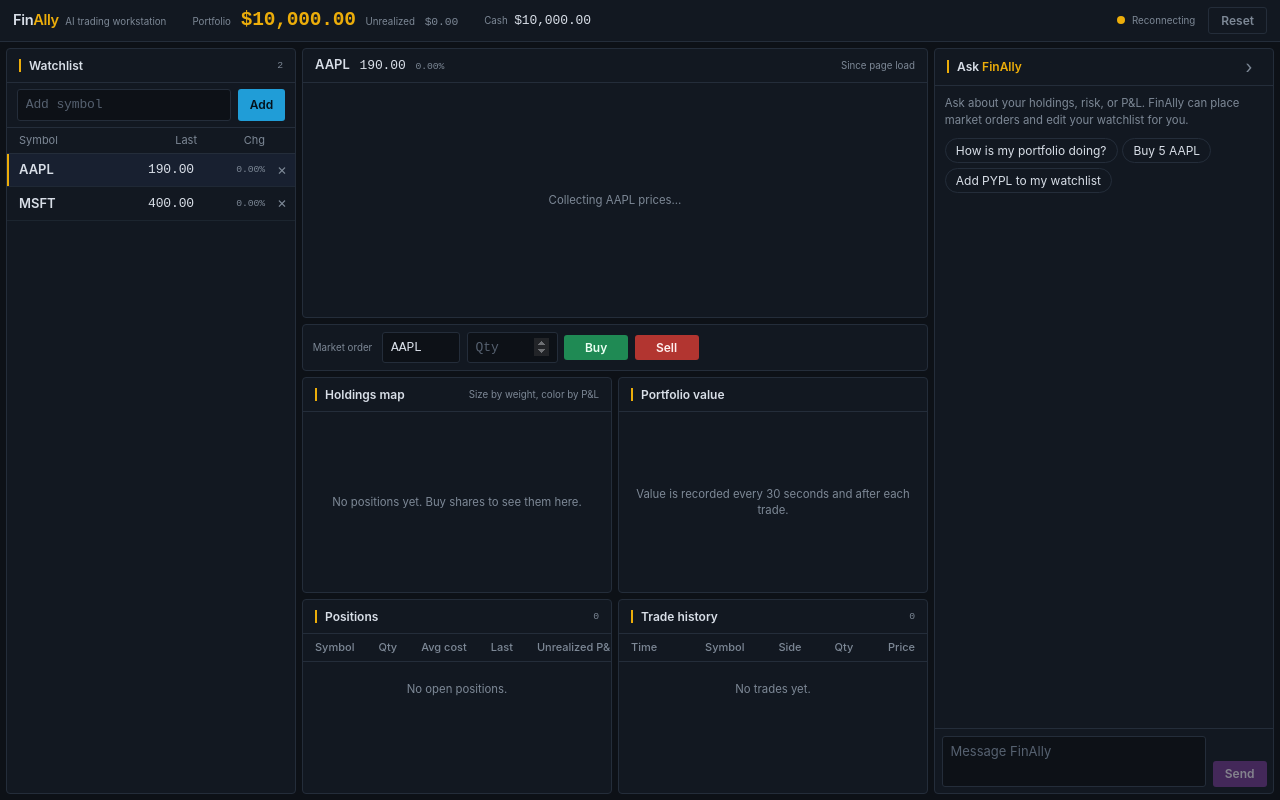
Test: Terminal › adds and removes watchlist tickers, surfacing unknown tickers
The image size is (1280, 800).
Check: the list item with test id "watchlist-row-MSFT" is shown, box x1=7 y1=187 x2=295 y2=221
Type "pypl" into the field with test id "watchlist-add-input". click: (124, 105)
box: x1=17 y1=89 x2=231 y2=121
Then press Enter
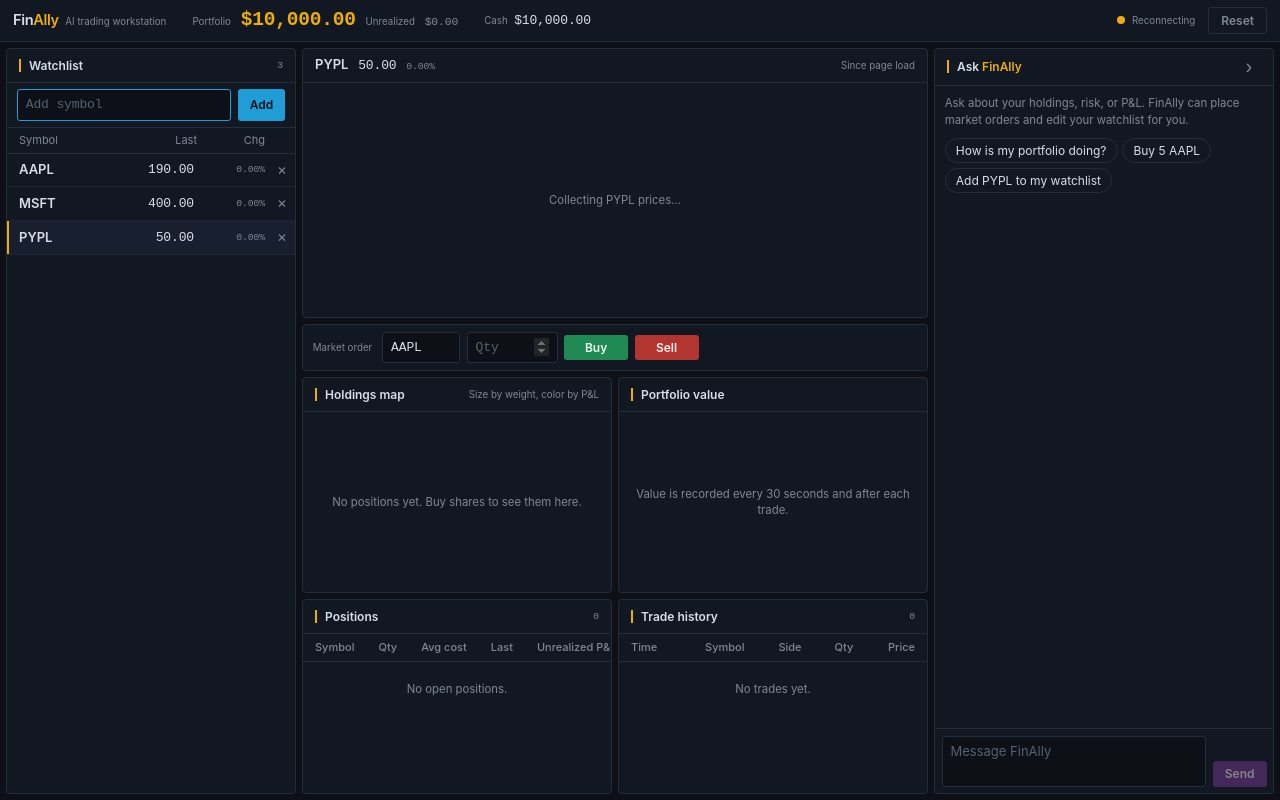
Check: the list item with test id "watchlist-row-PYPL" is shown, box x1=7 y1=221 x2=295 y2=255
Type "zzzz" into the field with test id "watchlist-add-input". click: (124, 105)
box: x1=17 y1=89 x2=231 y2=121
Then press Enter
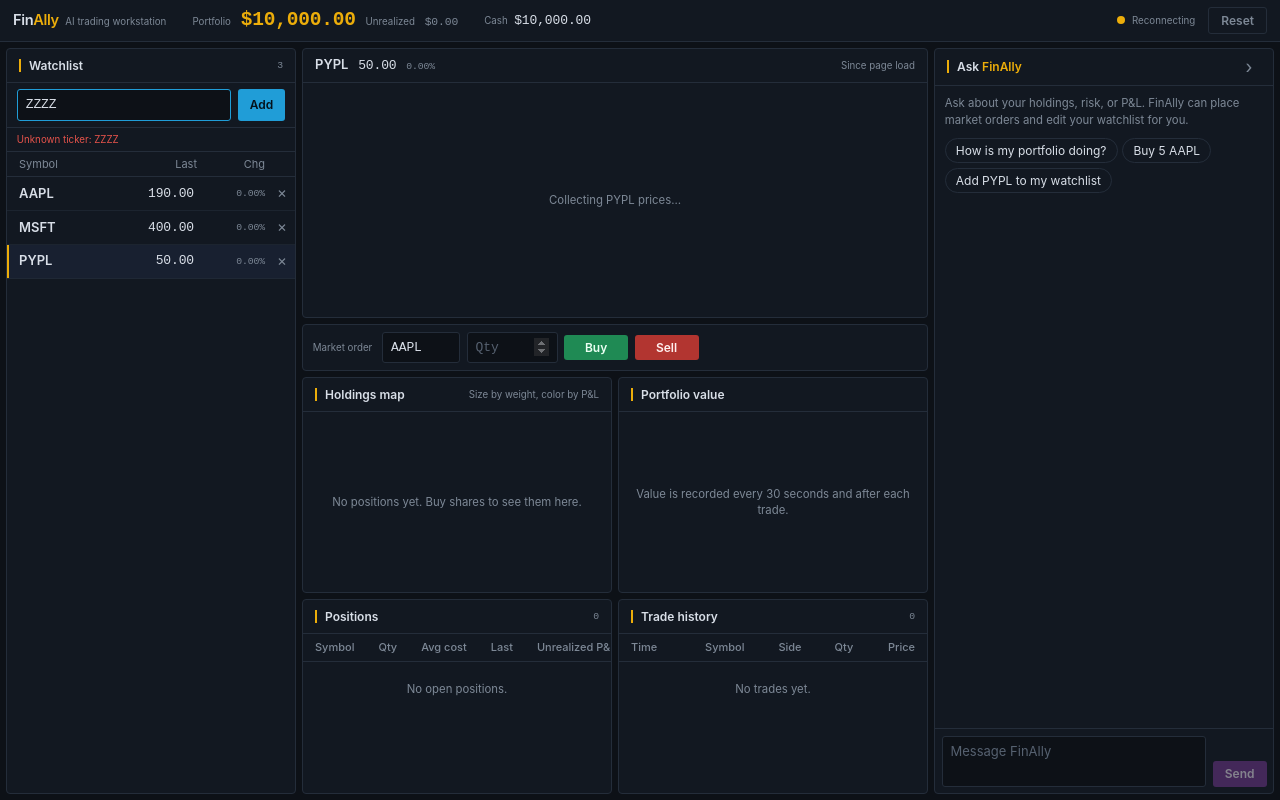
Check: the message with test id "watchlist-error" reads "Unknown ticker: ZZZZ", box x1=17 y1=134 x2=119 y2=145
Click the button with test id "watchlist-remove-MSFT". click: (282, 228)
box: x1=269 y1=211 x2=295 y2=244
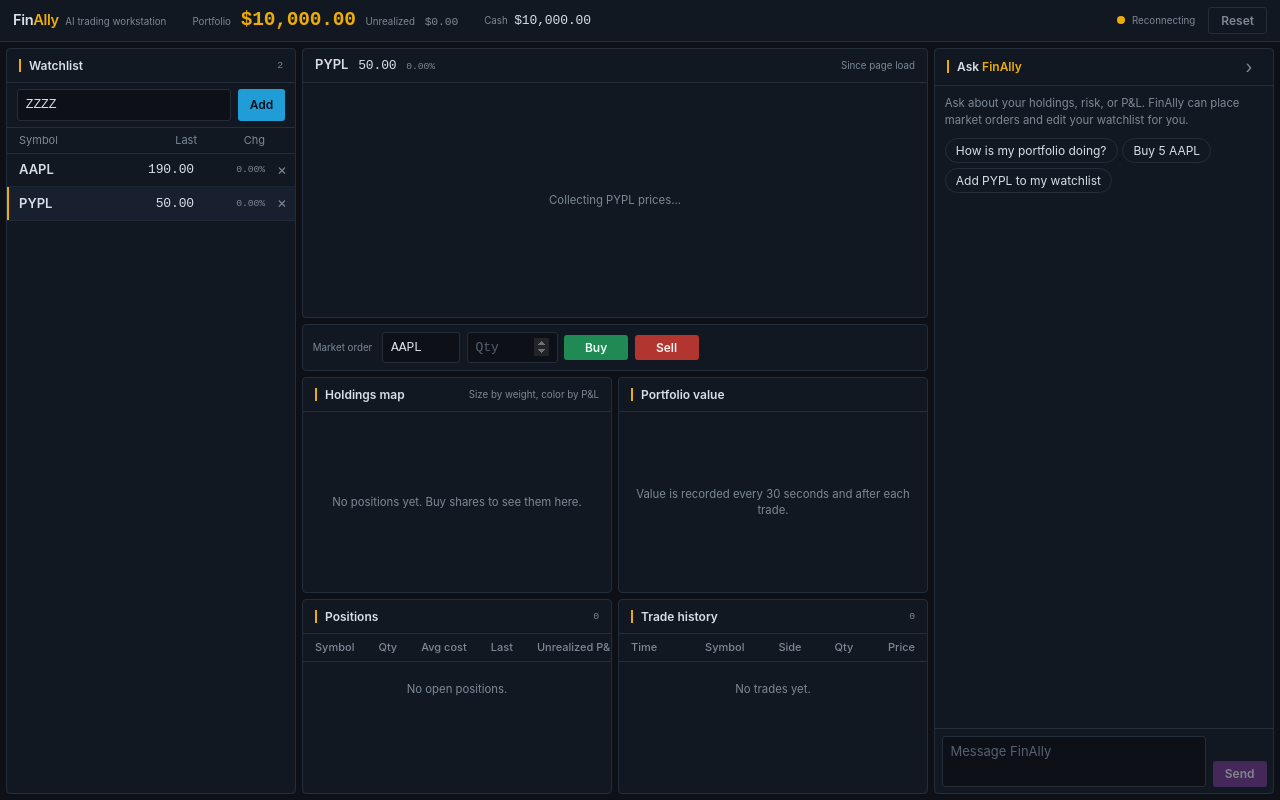
Check: the list item with test id "watchlist-row-MSFT" is gone
